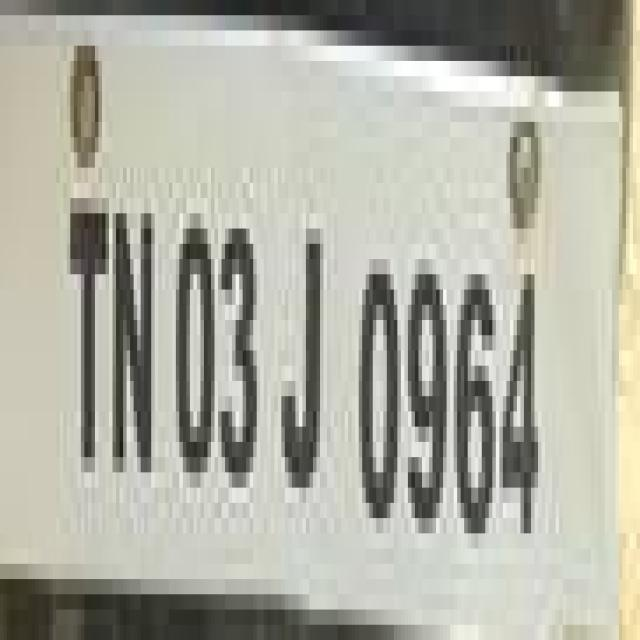license_plate: (3, 15, 605, 640)
